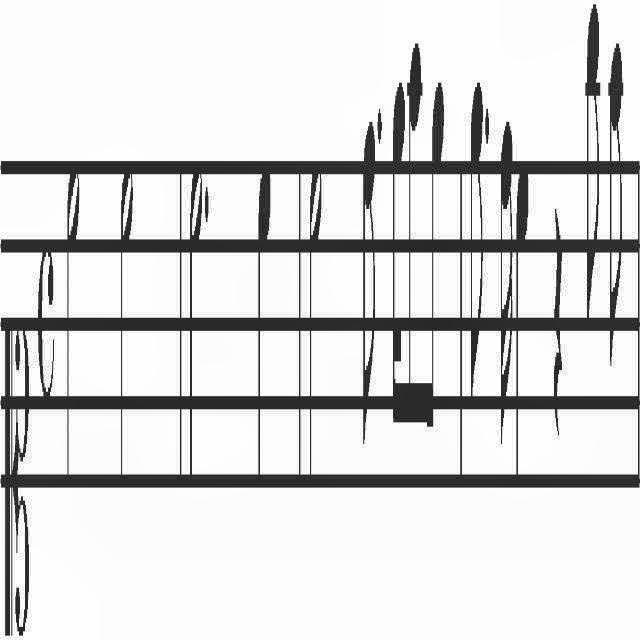Eighth-note: (406, 9, 426, 452), (607, 1, 629, 380), (582, 1, 602, 336), (429, 60, 446, 446), (469, 48, 485, 440), (362, 54, 376, 466)
Half-note: (115, 144, 137, 506), (64, 135, 85, 512), (186, 99, 202, 481), (310, 97, 322, 516)
Quarter-note: (250, 127, 274, 546), (514, 142, 534, 506)
Quarter-rest: (550, 186, 566, 458)
Sixteenth-note: (389, 60, 406, 436), (498, 110, 514, 466)
